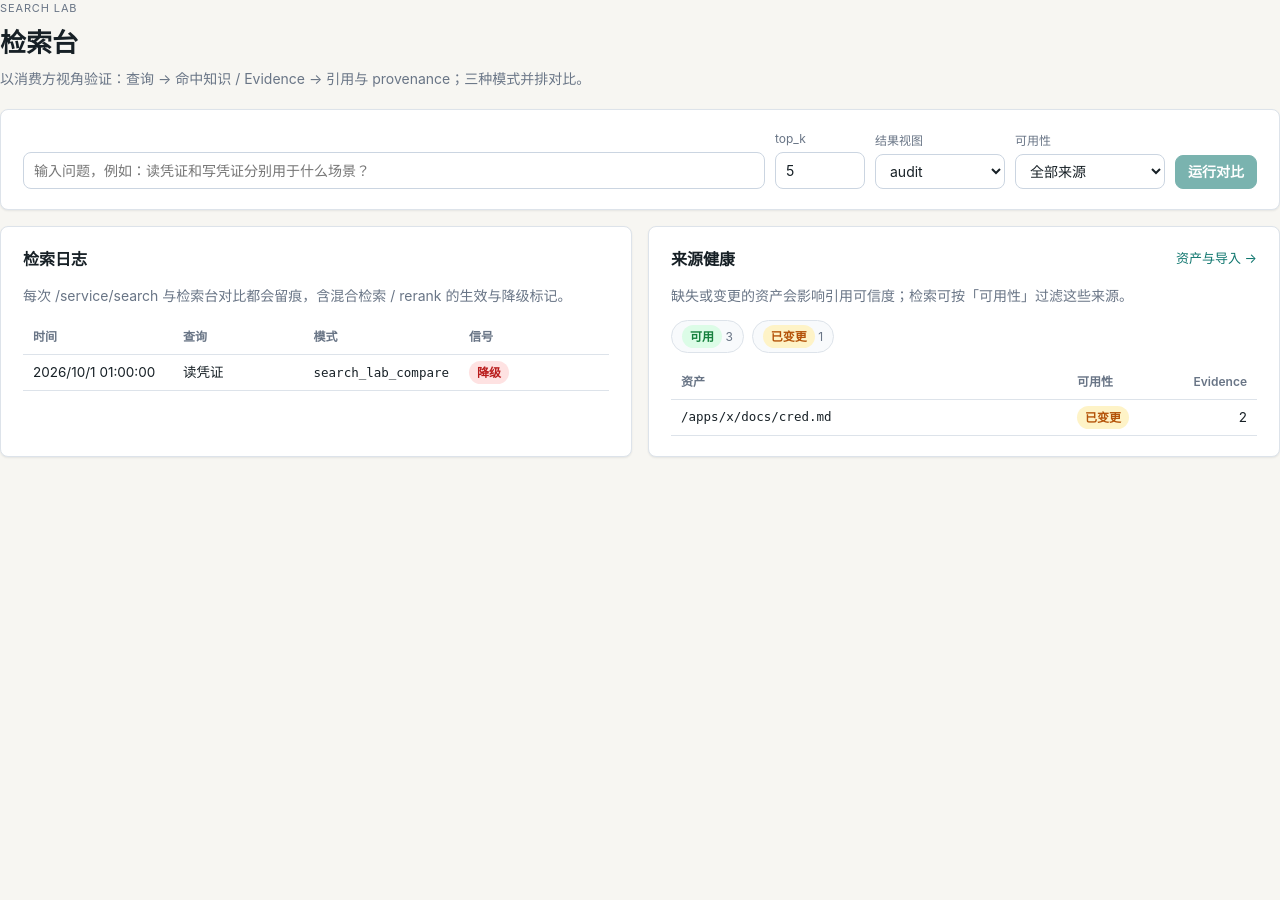
Test: search lab › runs a compare and renders the three modes with provenance links
Type "读凭证" into the field named "查询" at (394, 170), box [23, 152, 765, 188]
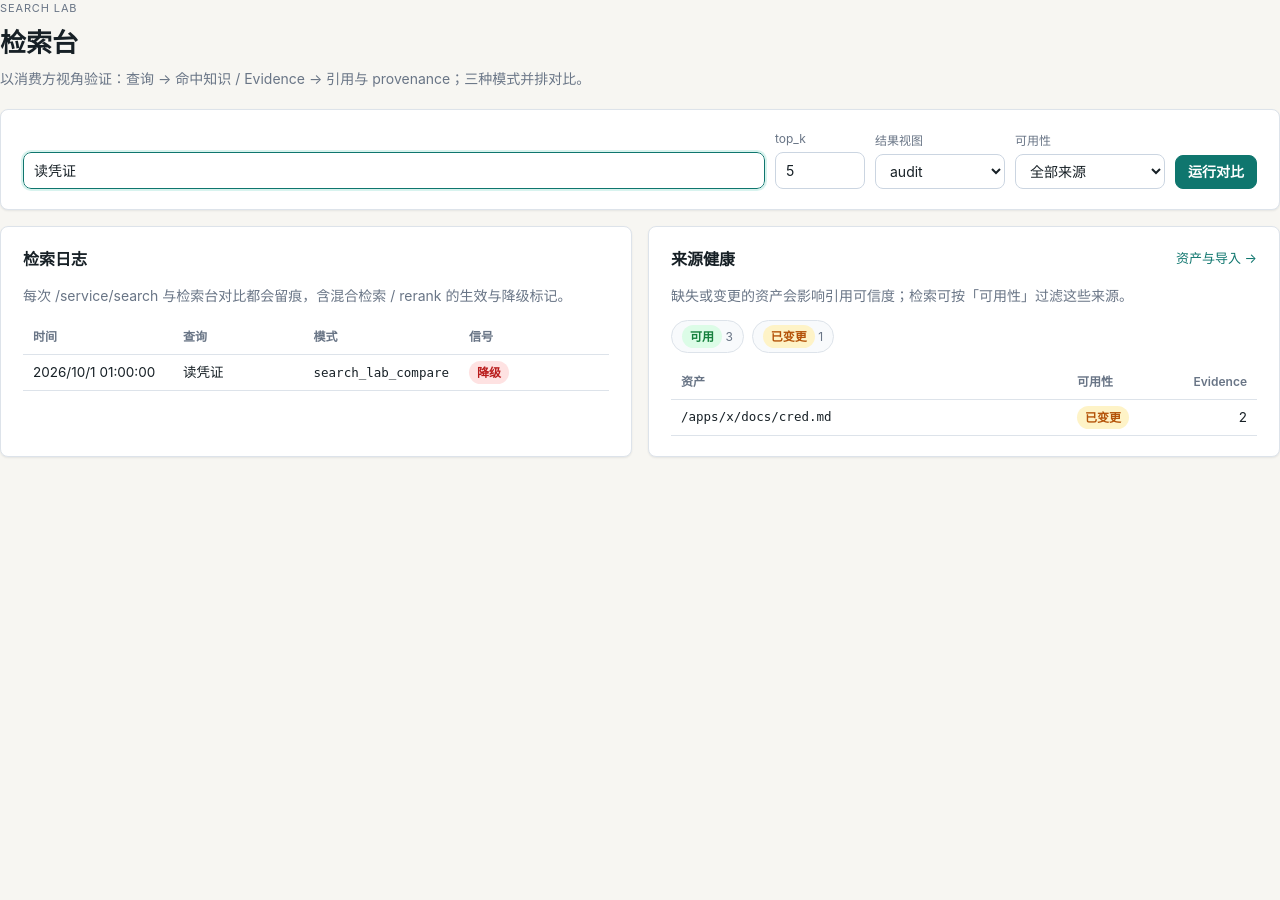
Select "仅健康来源" in the dropdown labelled "可用性" at (1090, 171), box [1015, 154, 1165, 188]
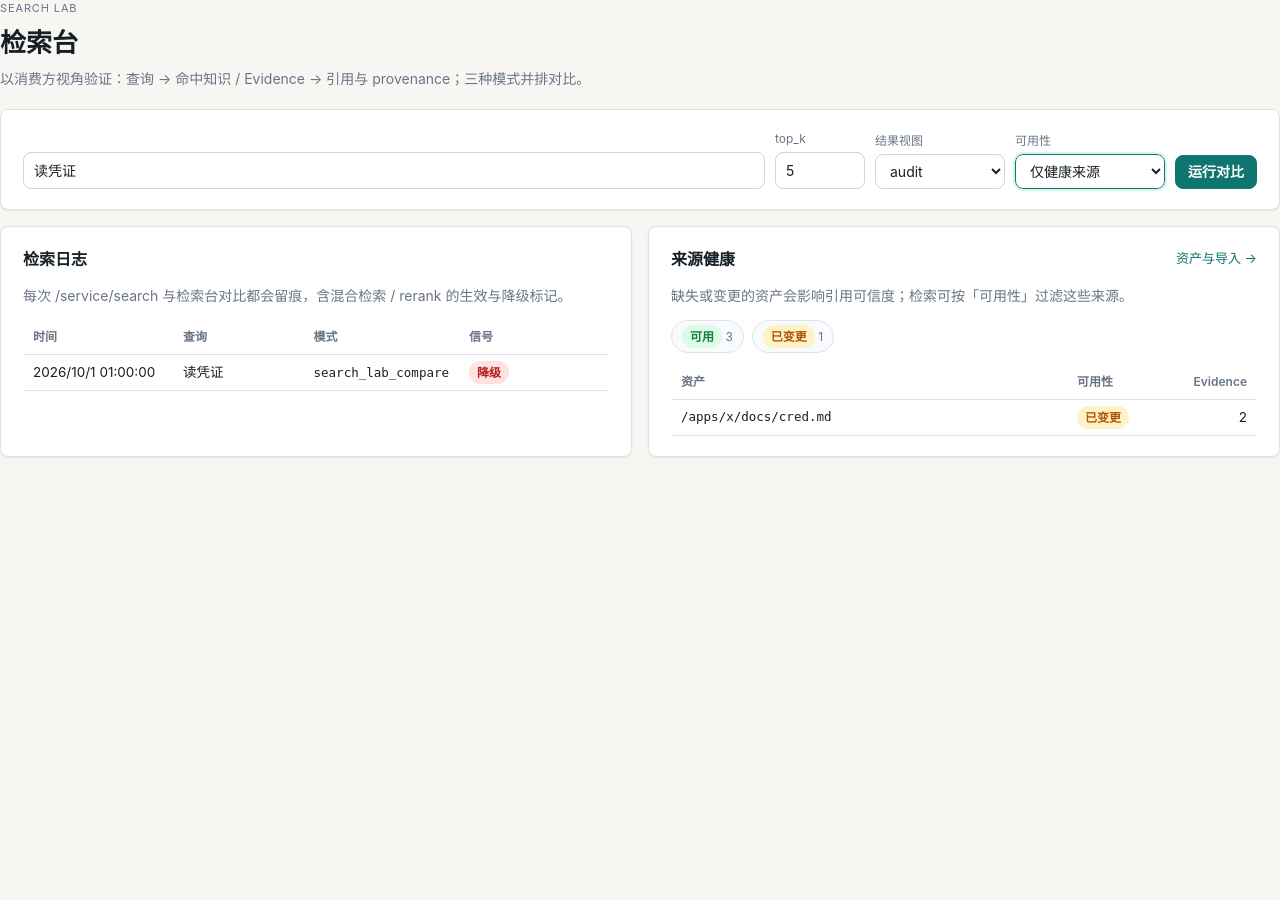
Click the button "运行对比" at (1216, 172), box [1175, 154, 1257, 188]
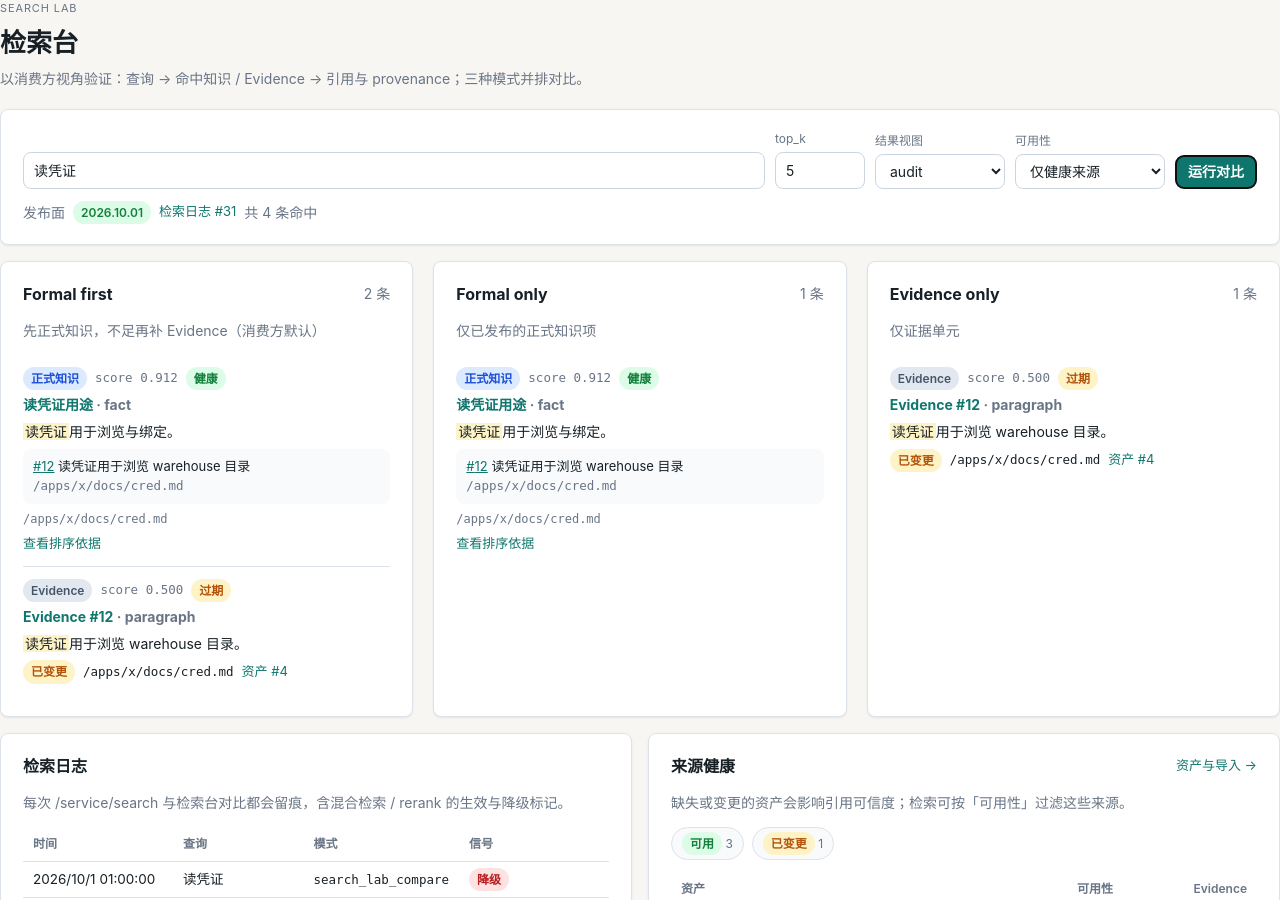
Expected: the text "2026.10.01" is shown, [73, 200, 151, 224]
Expected: the text "共 4 条命中" is shown, [244, 202, 317, 223]
